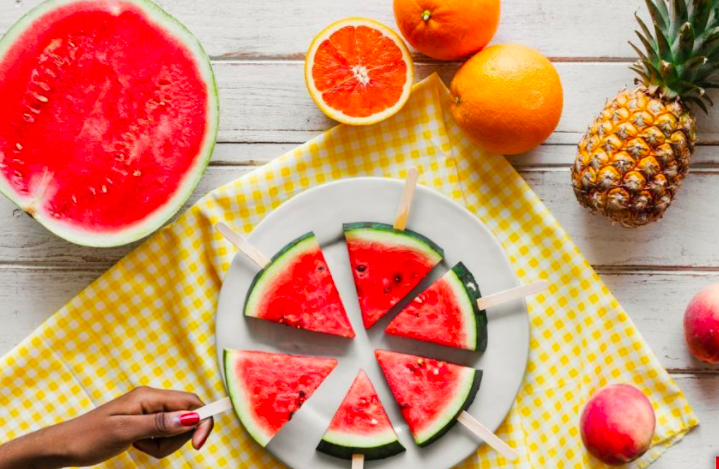Semangka: (334, 207, 446, 331), (206, 342, 330, 446), (256, 215, 350, 341), (391, 260, 500, 365), (379, 341, 476, 436), (325, 352, 403, 469)
